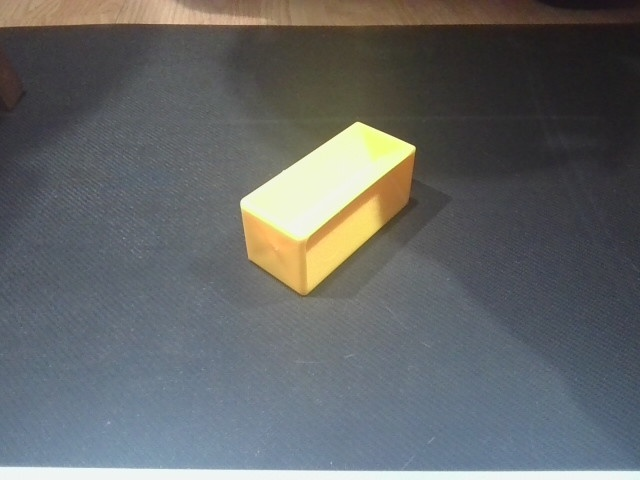YellowSample: (237, 119, 419, 301)
